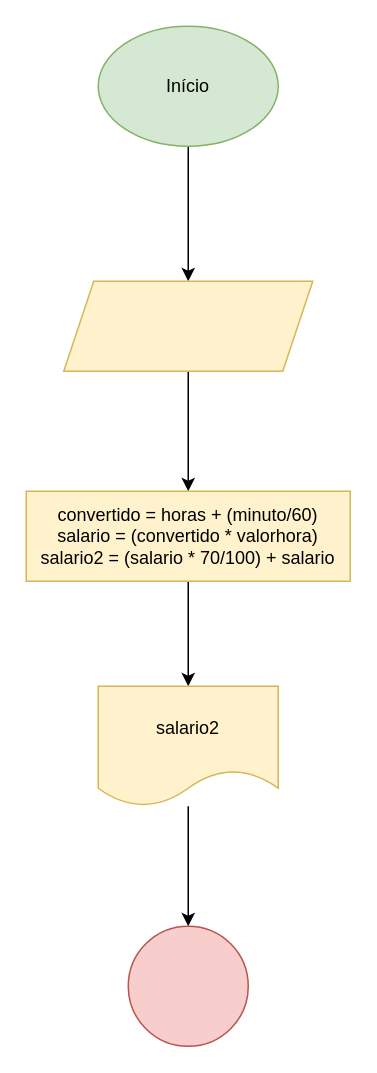
Image size: 377x1073. Some labels were removed from this diagram. The centre of each missing label's shape, as x and y in pixels:
Fim: pixel 187 985
horas, minutos, valorhora: pixel 187 325
